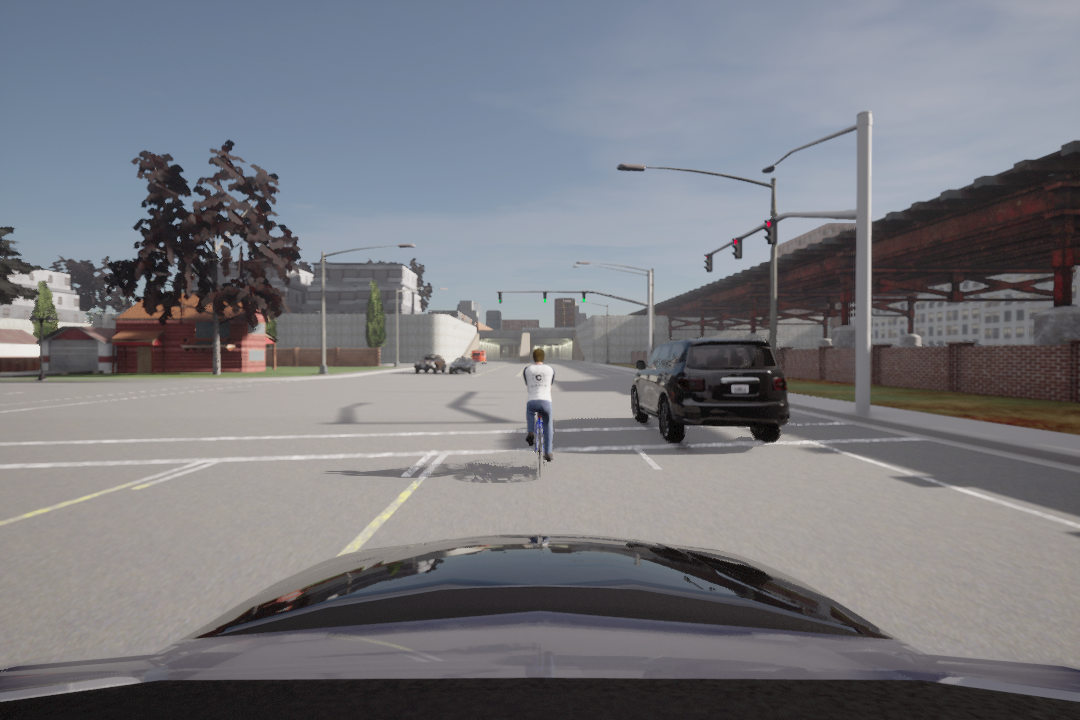TrafficLight: (731, 237, 747, 263), (763, 215, 777, 244), (704, 253, 712, 271), (541, 291, 551, 305), (496, 291, 504, 304), (581, 289, 587, 303)
